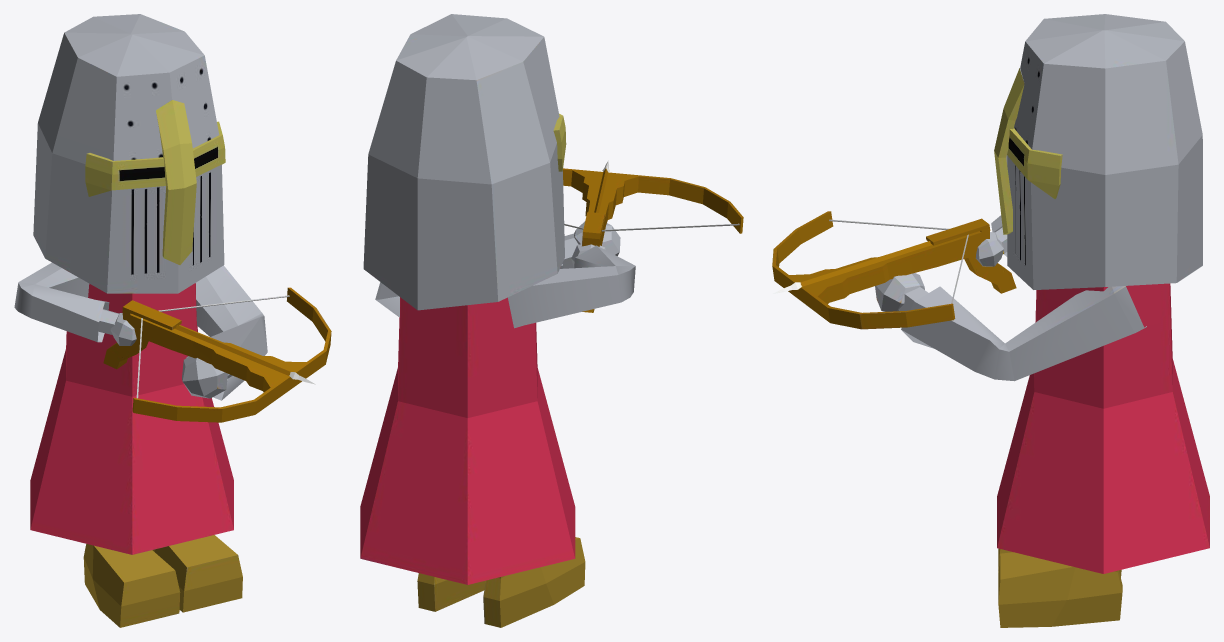
The model's file is 弓箭手.obj.
3 renders of one model, left to right at view 1: azimuth 30°, elevation 25°; view 2: azimuth 150°, elevation 25°; view 3: azimuth 270°, elevation 25°, orthographic. The views are drawn at different scales.
Visible parts, largest first — view 1: ??_??; view 2: ??_??; view 3: ??_??.
Boxes of the visible parts, x1=… form: ??_??: x1=14, y1=14, x2=331, y2=627; ??_??: x1=360, y1=14, x2=743, y2=627; ??_??: x1=772, y1=14, x2=1209, y2=627.
Size of the model in its own units: 48.14 by 106 by 73.99.
